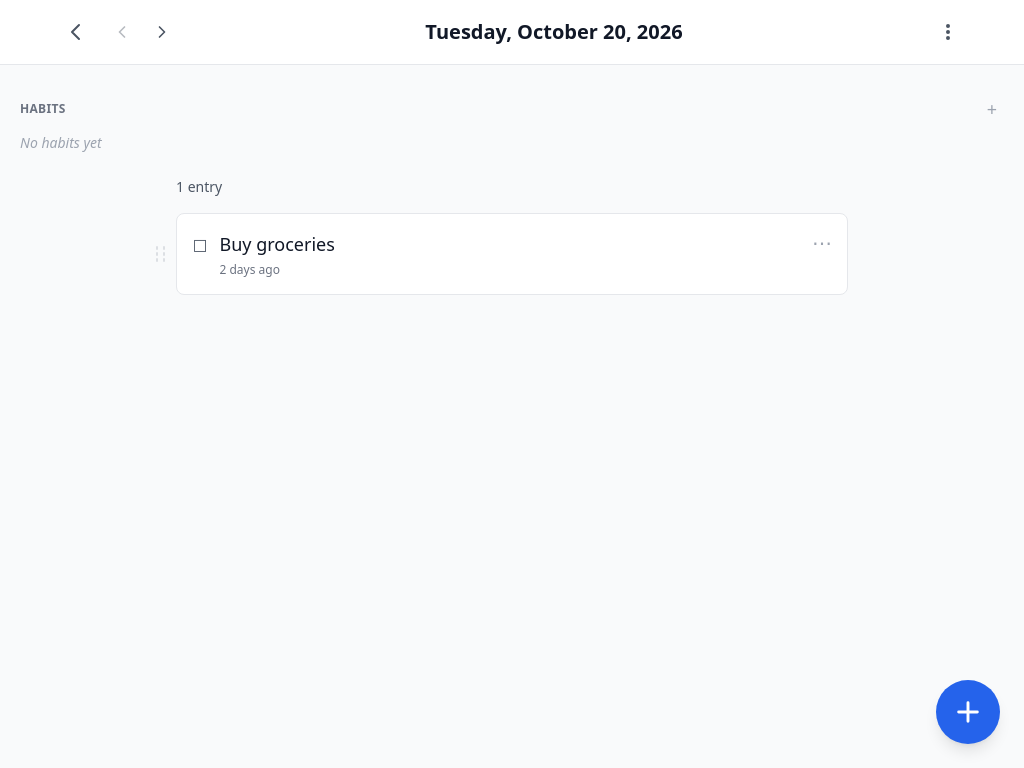
Scenario: CollectionDetailView - Migrate all open tasks to Today › should NOT navigate when handleBulkMigrateWithMode throws
Expected: the text "Buy groceries" is shown, [220,232,335,256]
Step 1. Click the button named "collection menu" → (948, 32), box [928,12,968,52]
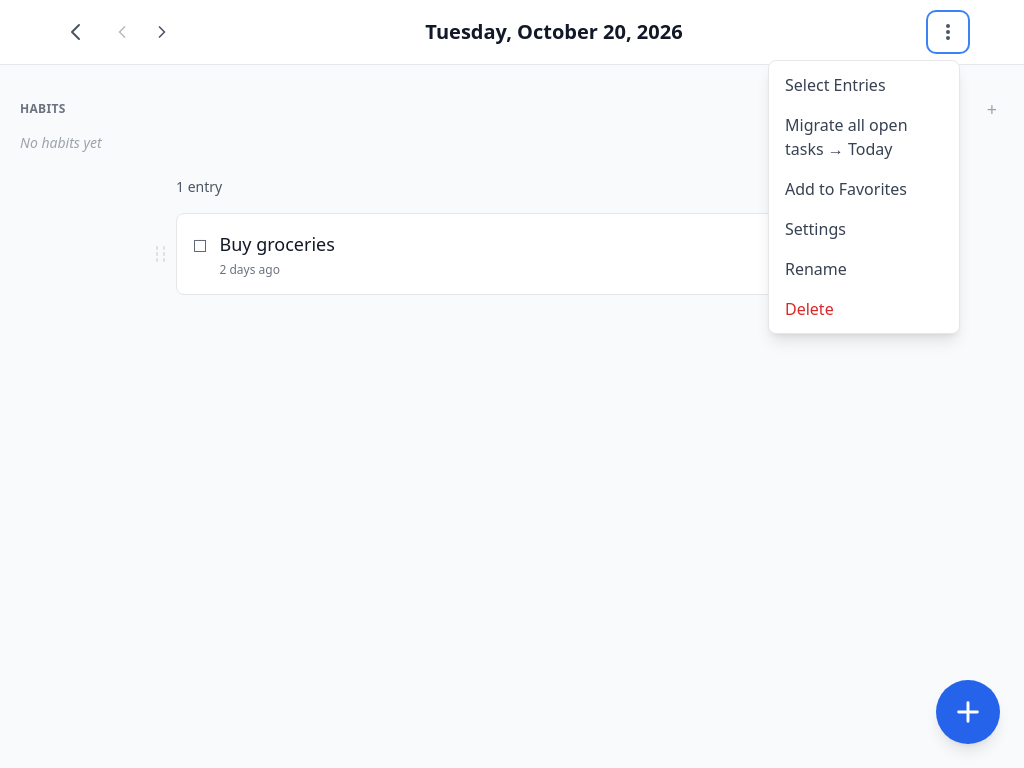
Step 2. Click the button "Migrate all open tasks → Today" → (864, 137), box [769,105,959,169]
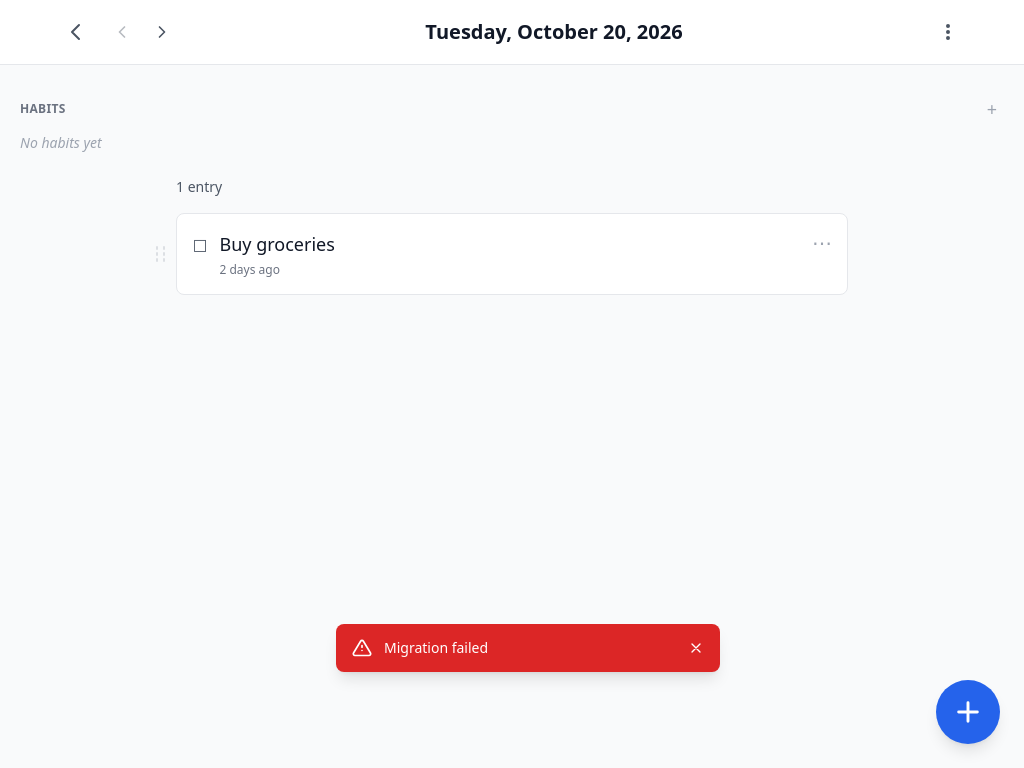
Expected: the text "Migration failed" is shown, [384,638,488,657]
